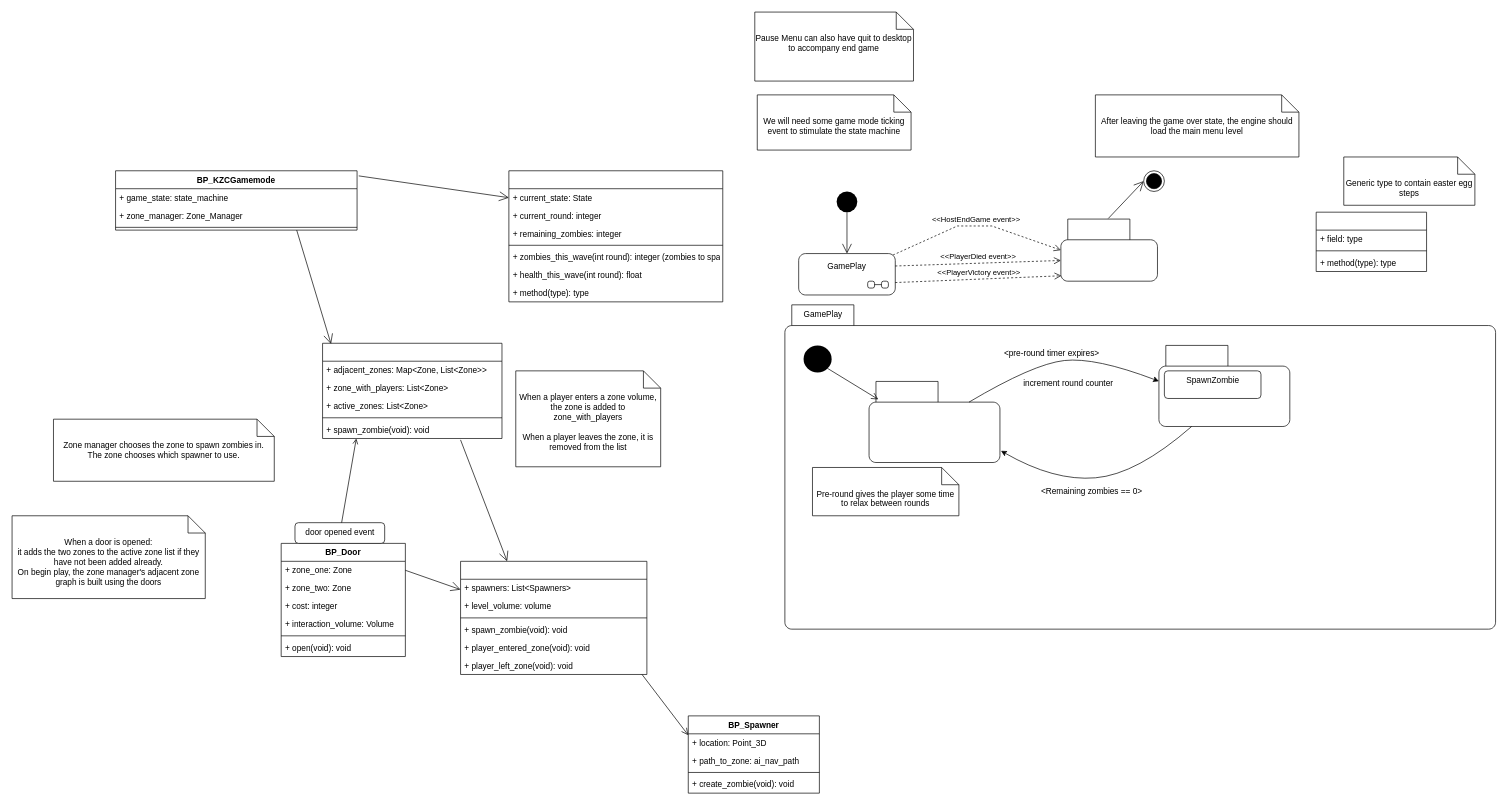
Some shapes in this 1508 by 807 pixel diagram are drawn without their labels. Each missing label, with the box of its shape:
BP_Objective: (1315, 211, 1427, 272)
BP_Zone: (460, 561, 647, 674)
Game Over: (1060, 218, 1157, 281)
Pre-round: (868, 381, 1000, 463)
Round: (1158, 345, 1290, 426)
state_machine: (508, 170, 723, 302)
Zone_Manager: (322, 343, 502, 438)
